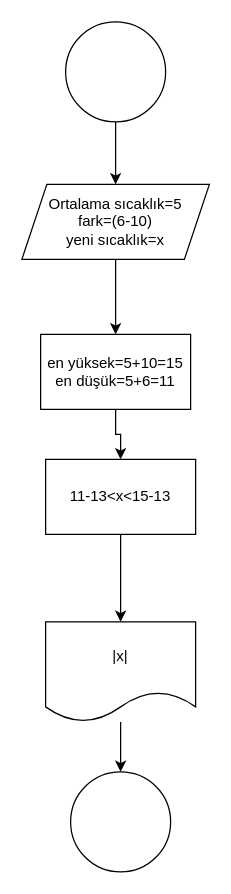
Image size: 231x894. Some labels were removed from this diagram. Here are the shapes that lost their labels. From the top down, the centre of each, then its label:
point 115,71: BAŞLA
point 120,821: DUR
